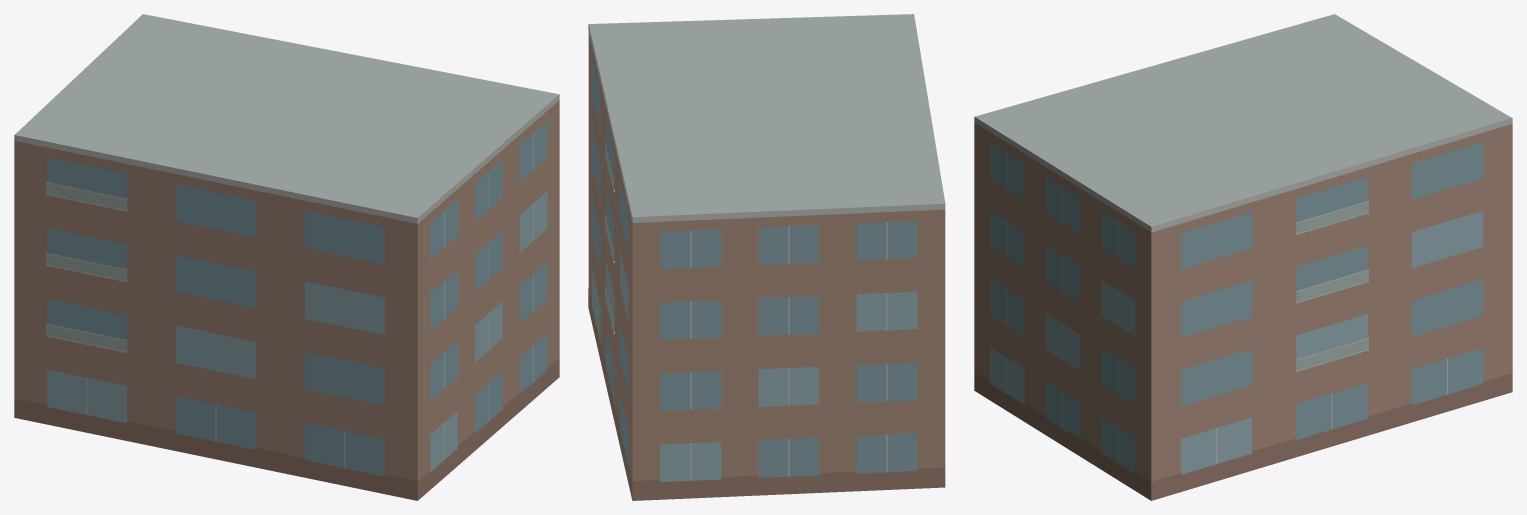
The model's file is survey-upis-32802771.glb.
3 renders of one model, left to right at view 1: azimuth 30°, elevation 25°; view 2: azimuth 150°, elevation 25°; view 3: azimuth 270°, elevation 25°, orthographic. The views are drawn at different scales.
Visible parts, largest first — view 1: survey-upis-32802771.tmp; view 2: survey-upis-32802771.tmp; view 3: survey-upis-32802771.tmp.
Part boxes in pixels (bbox=[...]): survey-upis-32802771.tmp: bbox=[14, 14, 559, 500]; survey-upis-32802771.tmp: bbox=[588, 14, 945, 500]; survey-upis-32802771.tmp: bbox=[974, 14, 1512, 500].
Bounding box in the file's own units: 19.67 × 11.8 × 21.01.
